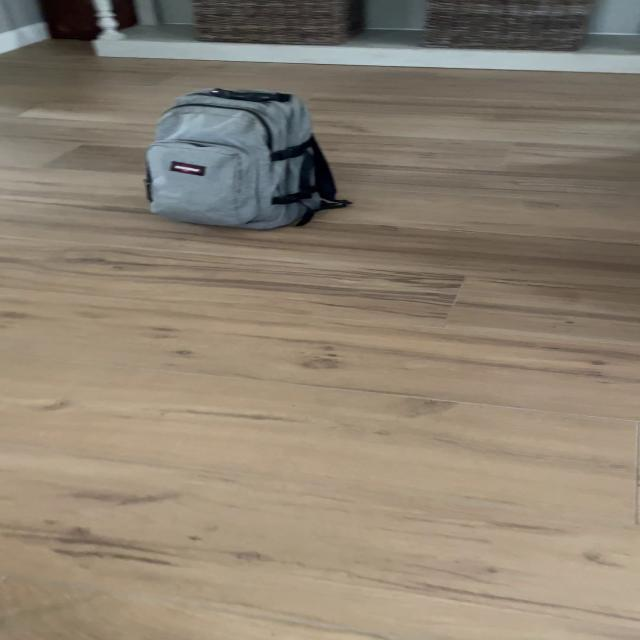backpack: (130, 81, 348, 235)
